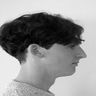ear: (24, 39, 51, 63)
